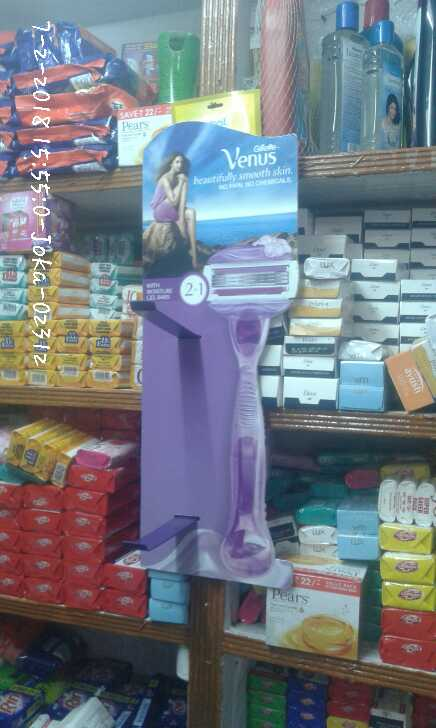reject: (166, 219, 324, 366)
